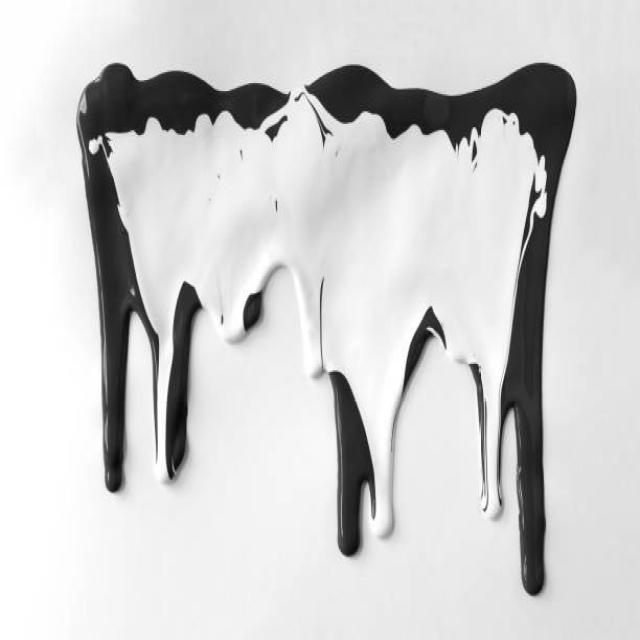paint drips: (84, 229, 552, 605)
